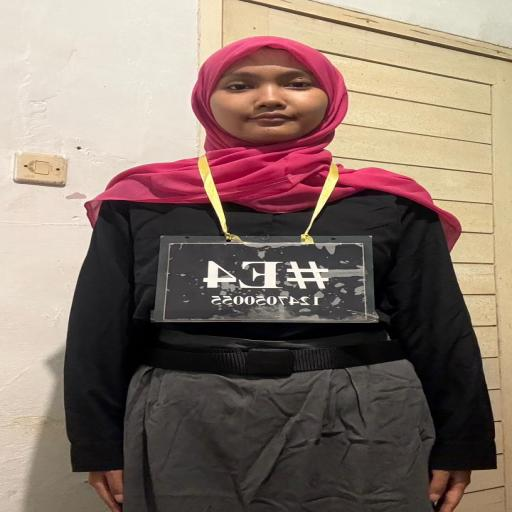kemeja_salah: (84, 183, 451, 345)
kerudung_benar: (130, 34, 408, 214)
nametag_ada: (148, 182, 390, 332)
rok_salah: (126, 364, 436, 512)
sabuk_ada: (130, 336, 415, 380)
